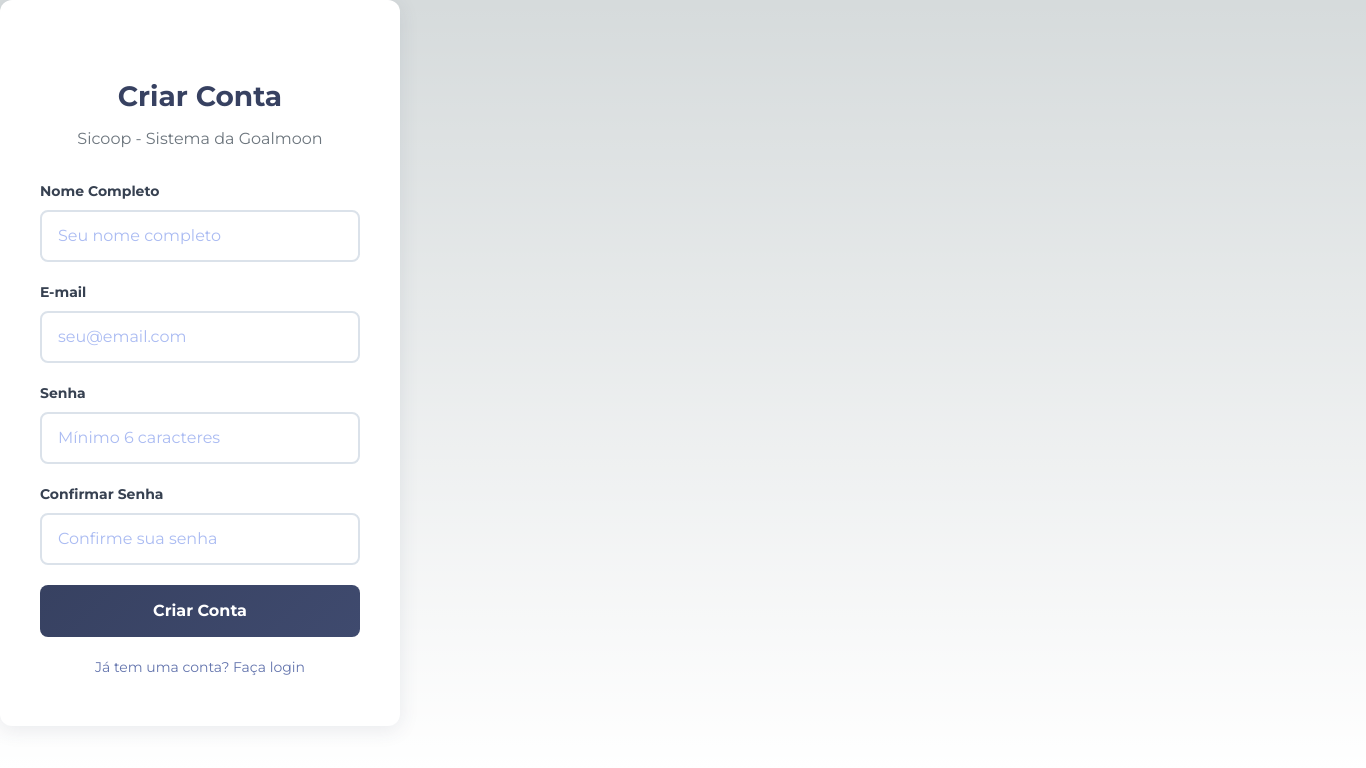
it: RegisterPage › validação de senha › deve mostrar erro quando senhas não coincidem
Type "João Silva" into the field labelled "Nome Completo".
click(200, 236); type("João Silva")  # box [40,210,360,262]
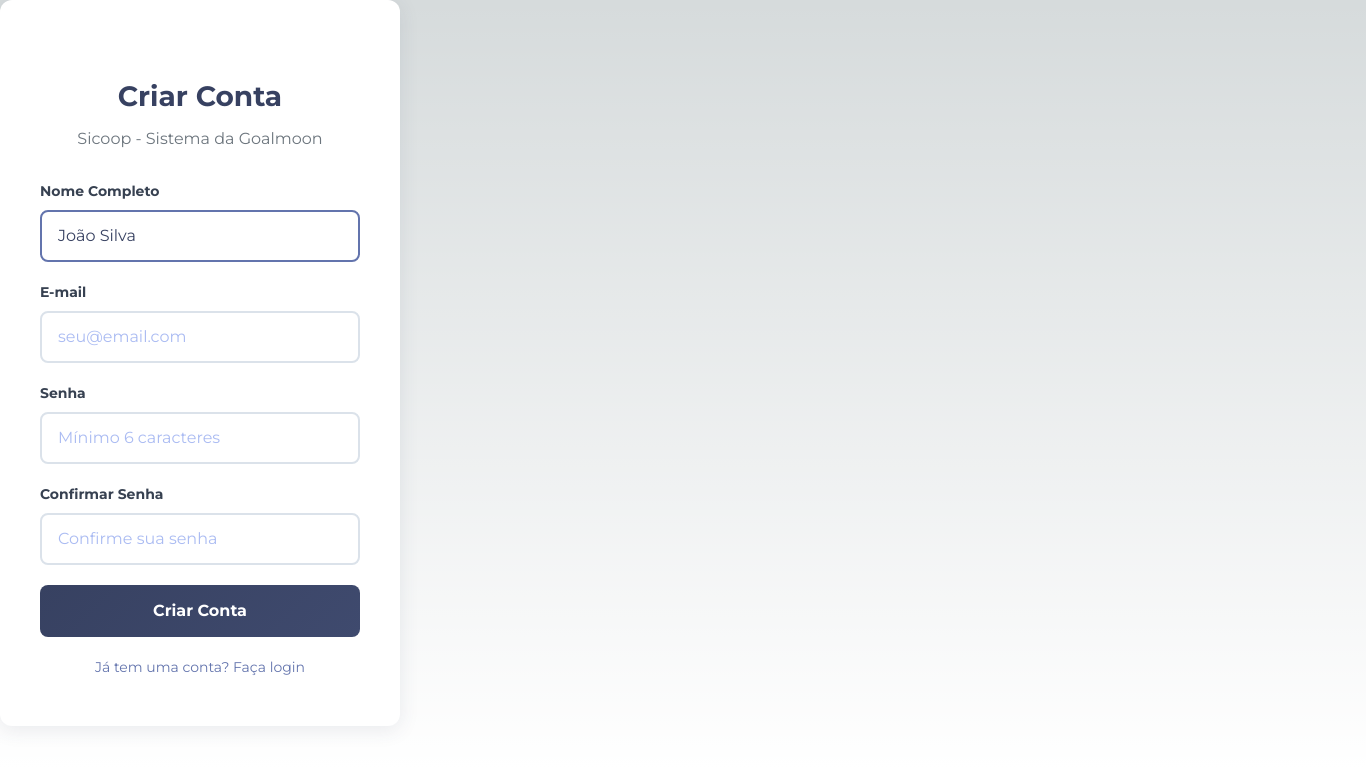
Type "joao@example.com" into the field labelled "E-mail".
click(200, 337); type("joao@example.com")  # box [40,311,360,363]
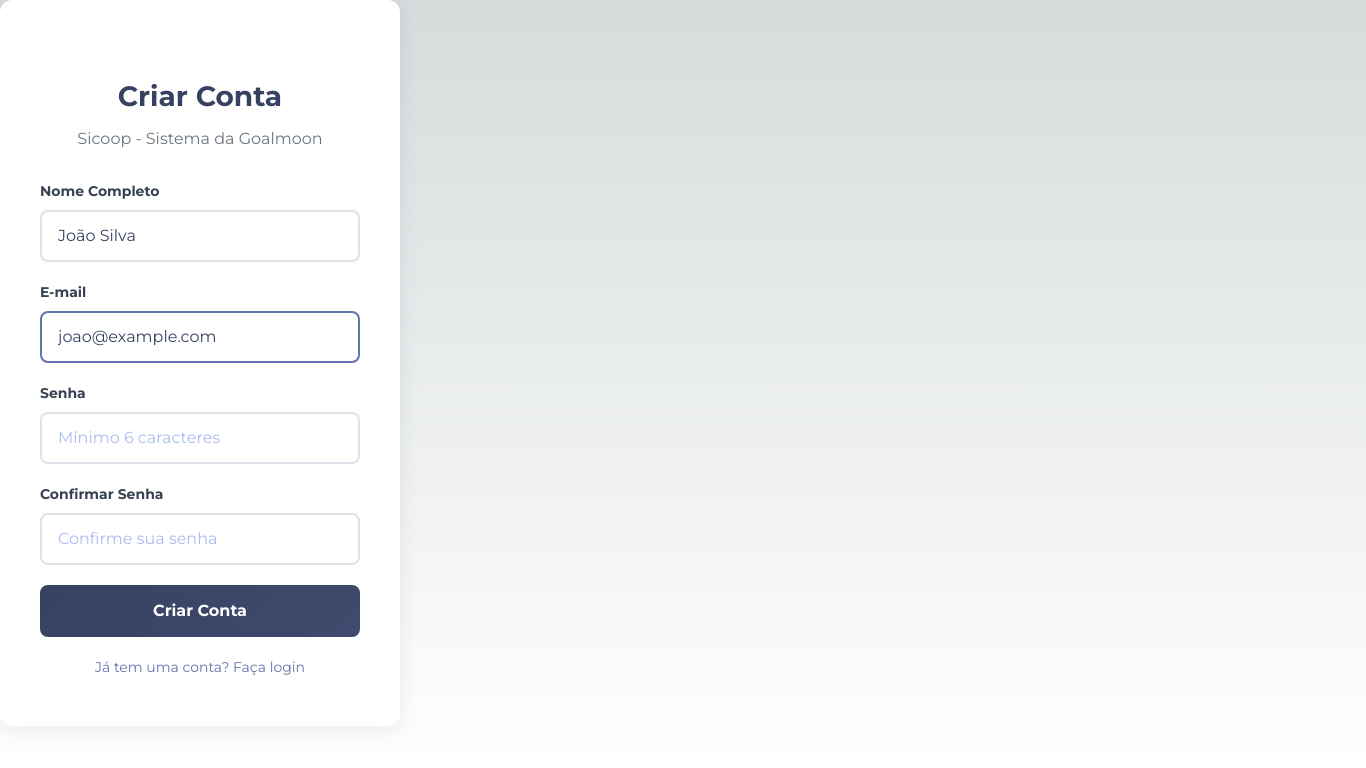
Type "password123" into the password field labelled "Senha".
click(200, 438); type("password123")  # box [40,412,360,464]
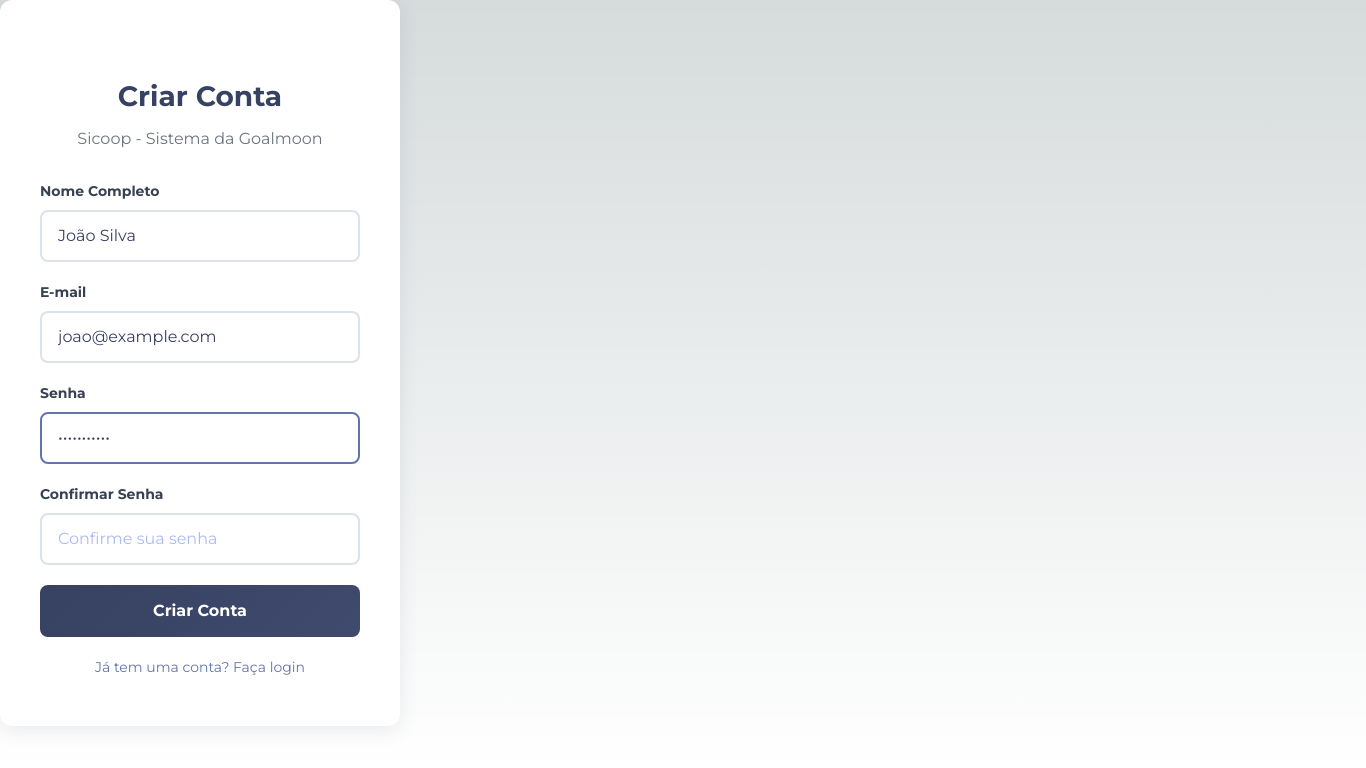
Type "different123" into the password field labelled "Confirmar Senha".
click(200, 539); type("different123")  # box [40,513,360,565]
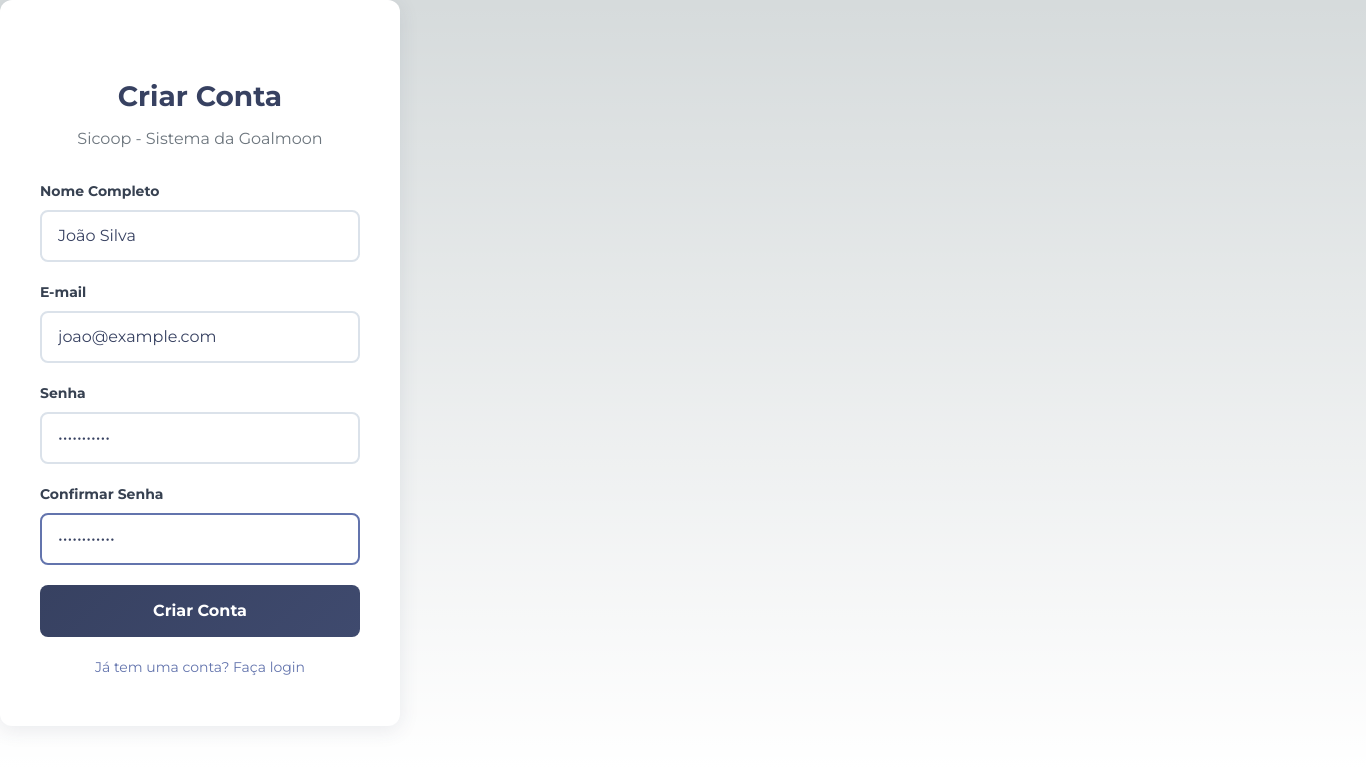
Click the button "Criar Conta".
click(200, 611)  # box [40,585,360,637]
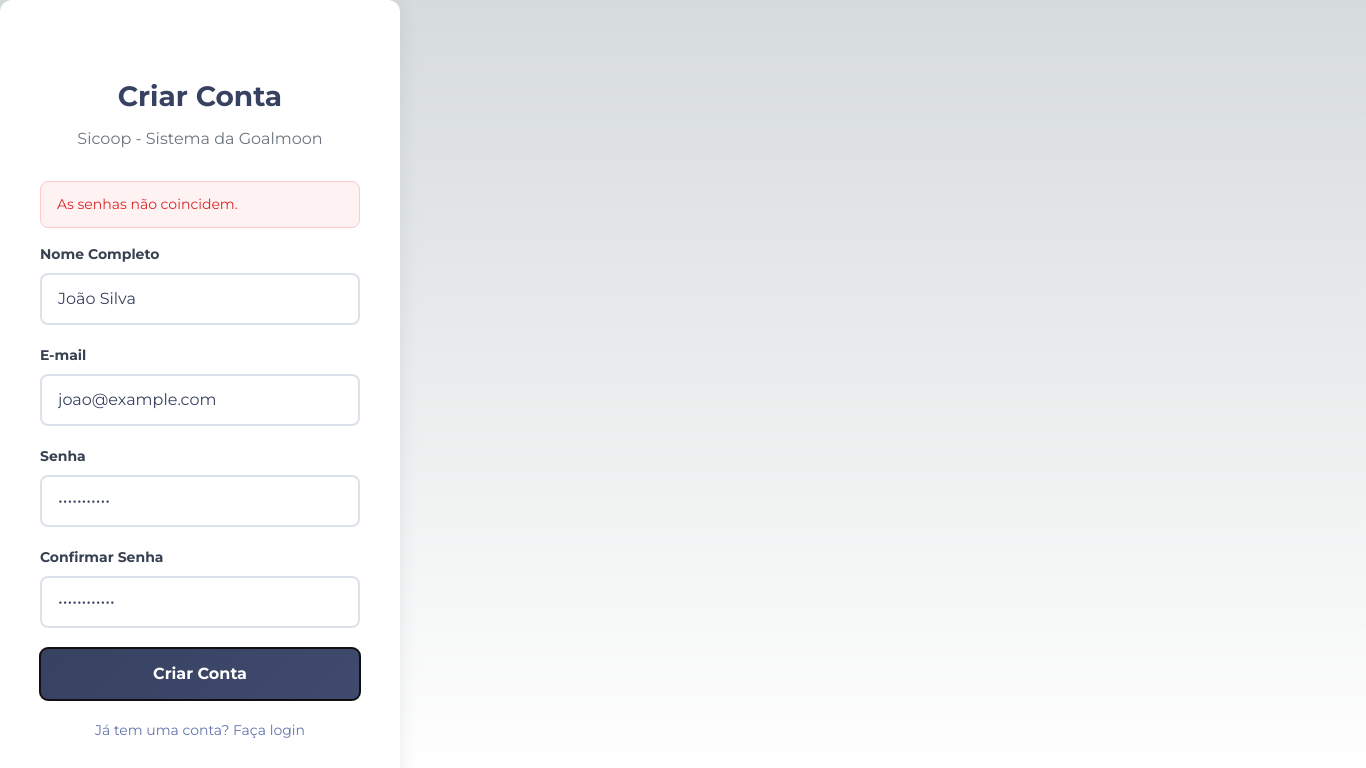
Expected: the text "As senhas não coincidem." is shown, [40,181,360,228]
